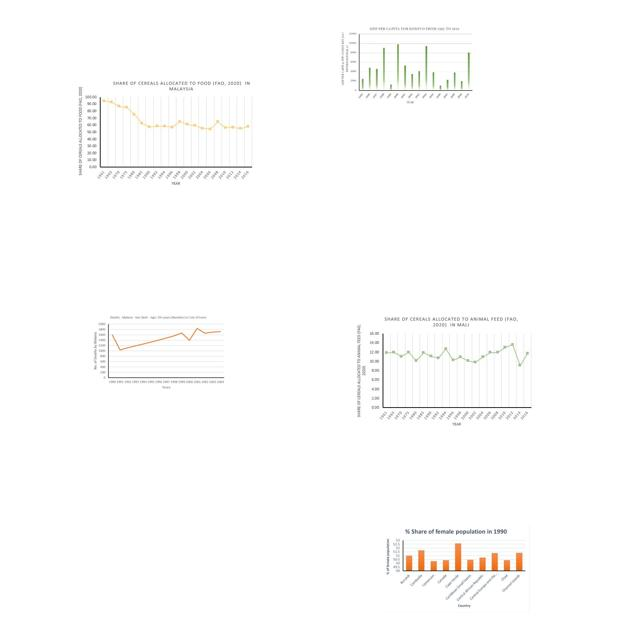Graph: (354, 313, 534, 427), (75, 78, 257, 190), (383, 525, 530, 613), (339, 25, 474, 105), (90, 313, 227, 391)
